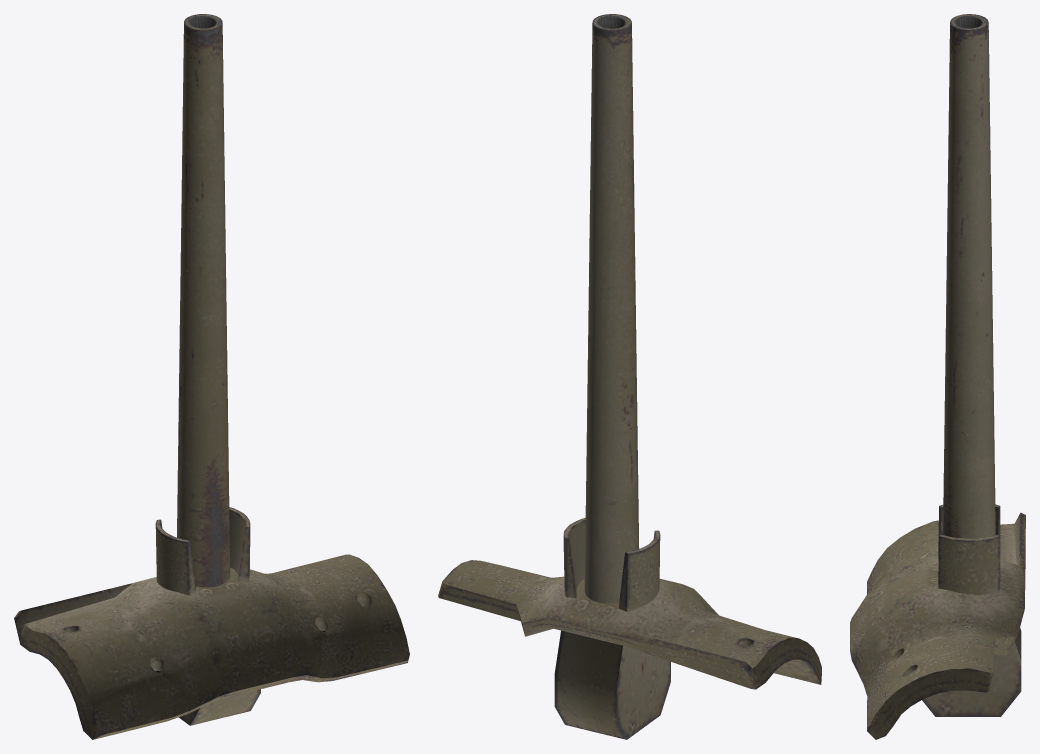
File: Gun_01.glb
3 renders of one model, left to right at view 1: azimuth 30°, elevation 25°; view 2: azimuth 150°, elevation 25°; view 3: azimuth 270°, elevation 25°, orthographic. The views are drawn at different scales.
Visible parts, largest first — view 1: set_0_group_0; view 2: set_0_group_0; view 3: set_0_group_0.
Boxes of the visible parts, x1,y1,x2,y2 form: set_0_group_0: (14,14,409,739); set_0_group_0: (438,14,821,739); set_0_group_0: (850,14,1025,739).
Bounding box in the file's own units: 1.05 × 2.1 × 0.4934.
Materials: 1 (1 with a texture image).
